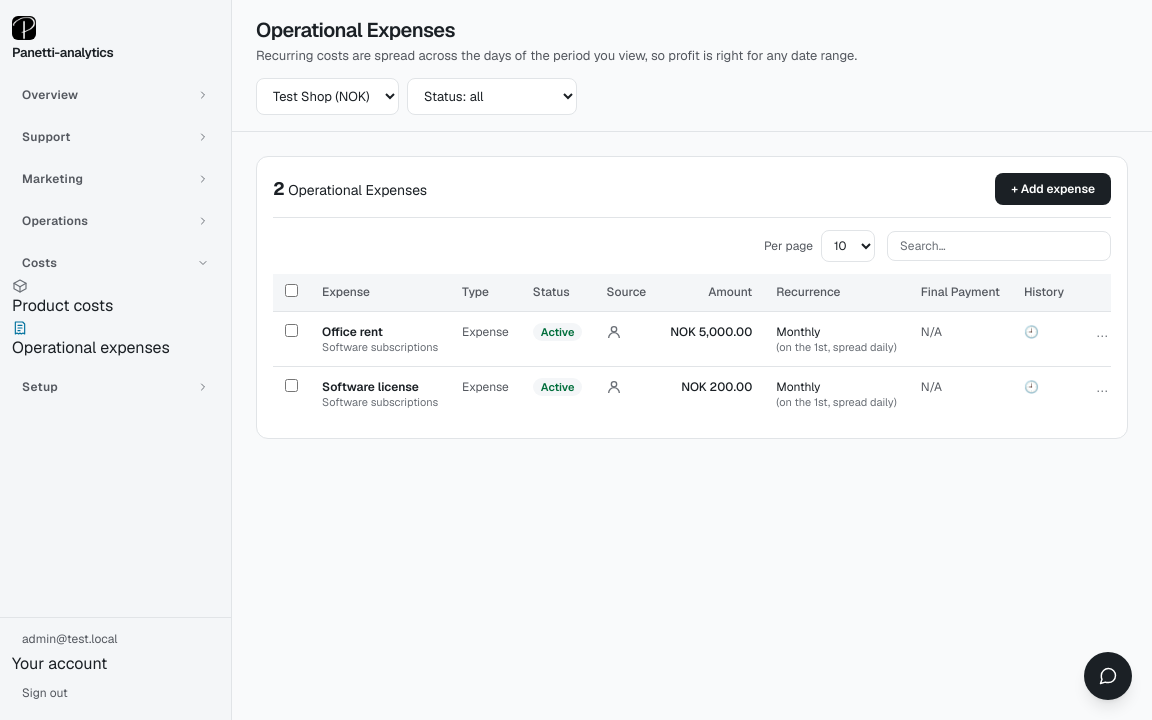
Scenario: ExpensesClient - bulk delete fails › reports a partial bulk-delete failure honestly
Expected: the text "Office rent" is shown, [322,324,383,340]
Expected: the text "Software license" is shown, [322,379,419,395]
Click the checkbox named "Select Office rent".
click(292, 330)  # box [285,324,298,336]
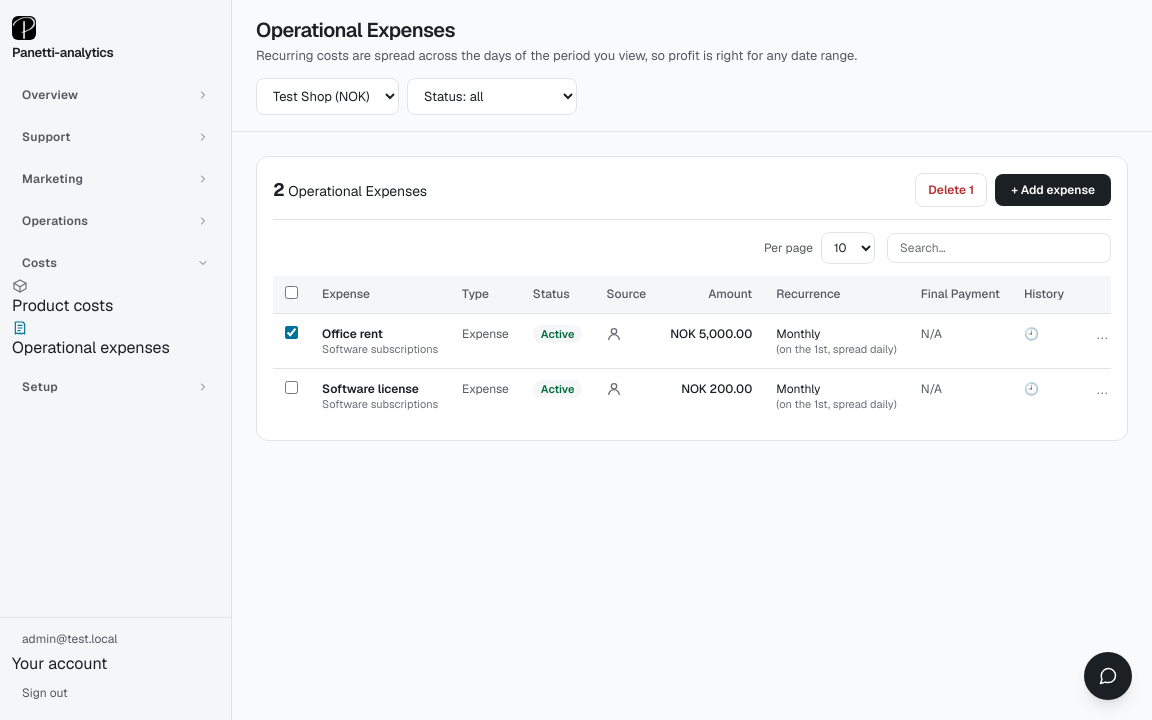
Click the checkbox named "Select Software license".
click(292, 388)  # box [285,381,298,394]
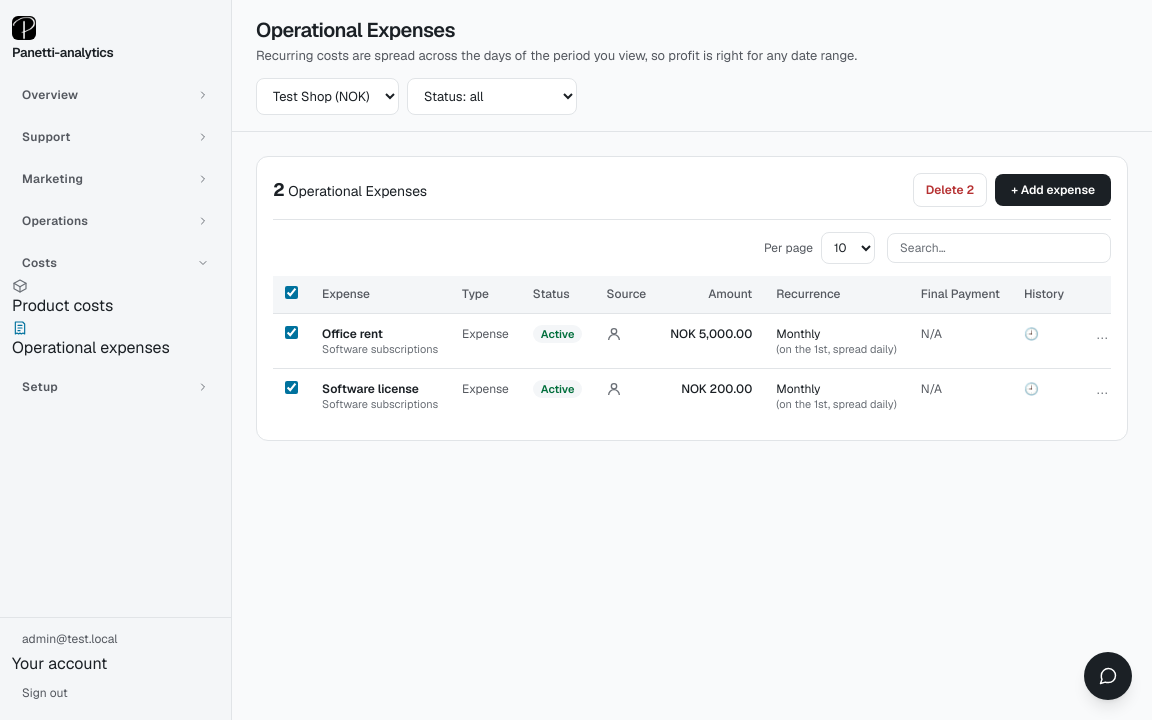
Click the button "Delete 2".
click(950, 190)  # box [913,172,987,206]
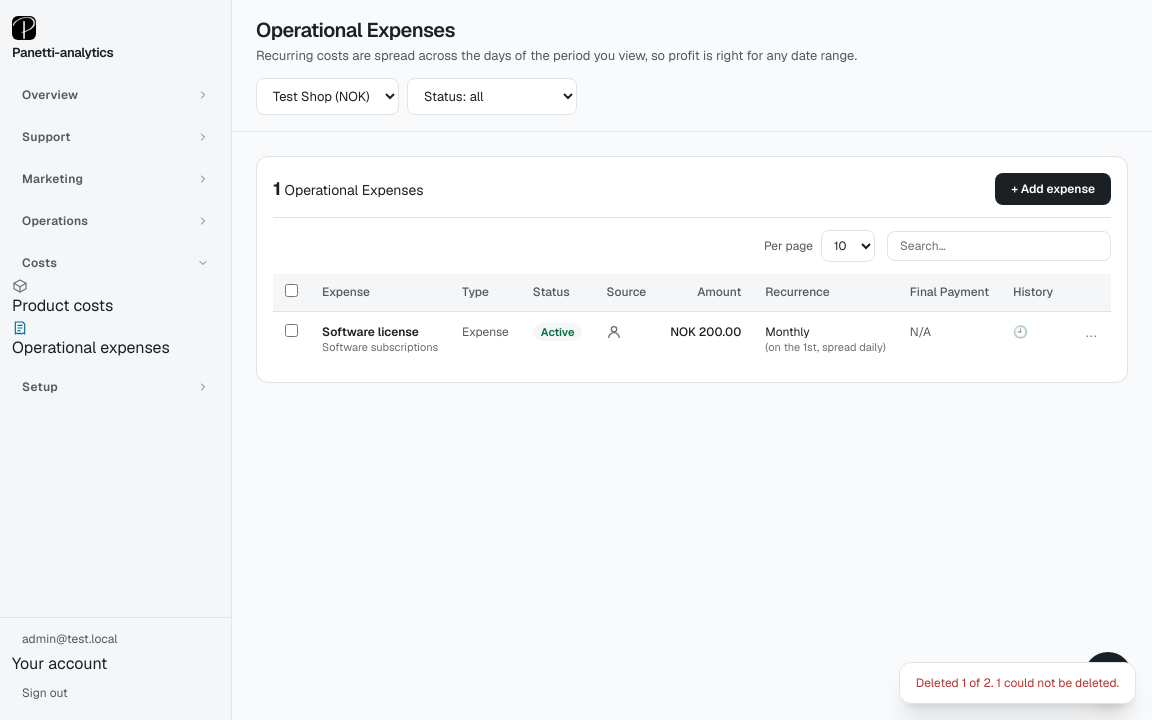
Expected: the text "Software license" is shown, [322,324,419,340]
Result: the button "Deleted 1 of 2. 1 could not be deleted." is shown at [899,662,1136,704]
Result: the text "Office rent" is gone
